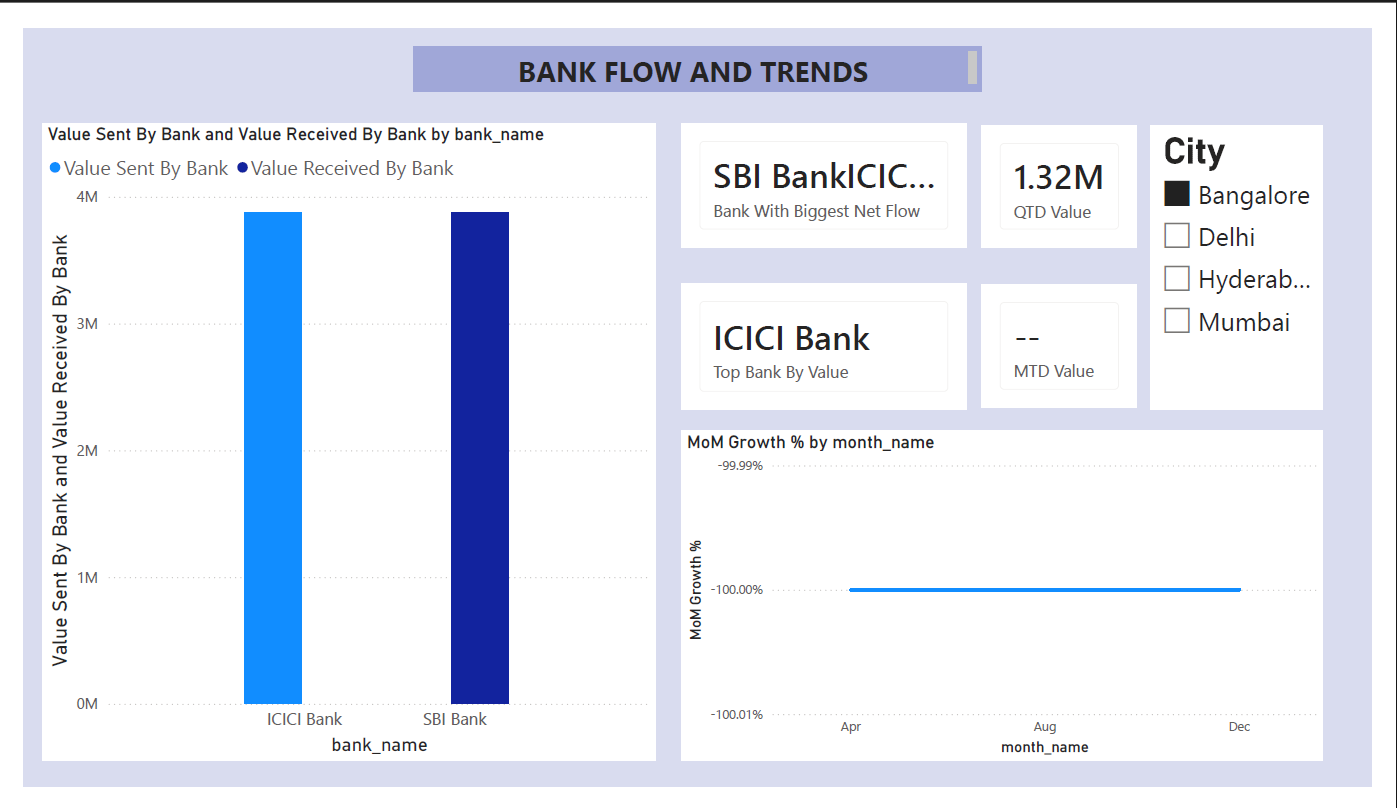

This screenshot's page, from the dashboard's own definition file:
{"tool":"powerbi","page":{"name":"page 4","canvas":[1280,720],"ordinal":3},"visuals":[{"type":"textbox","box":[370,16.7,540,43.3],"z":0},{"type":"clusteredColumnChart","fields":{"Category":["dim_bank.bank_name"],"Y":["fact_transactions.Value Sent By Bank","fact_transactions.Value Received By Bank"]},"box":[17.5,90,582.5,605],"z":1000},{"type":"lineChart","fields":{"Category":["dim_date.month_name"],"Y":["fact_transactions.MoM Growth %"]},"box":[625,381.7,608.3,313.3],"z":2000},{"type":"cardVisual","fields":{"Data":["fact_transactions.MTD Value"]},"box":[910,243.3,146.7,116.7],"z":3000},{"type":"cardVisual","fields":{"Data":["fact_transactions.Bank With Biggest Net Flow"]},"box":[625,90,270,118.3],"z":4000},{"type":"cardVisual","fields":{"Data":["fact_transactions.Top Bank By Value"]},"box":[625,241.7,270,120],"z":5000},{"type":"cardVisual","fields":{"Data":["fact_transactions.QTD Value"]},"box":[910,91.7,146.7,116.7],"z":6000},{"type":"slicer","fields":{"Values":["fact_transactions.City"]},"box":[1070,91.7,163.3,270],"z":8000}]}

Visuals, with their boxes in screenshot pixels (x1, y1, x2, y2), scaled from the page's 1280x720 canvas onto the 1397x808 screenshot:
textbox: select_region(404, 19, 993, 67)
clusteredColumnChart - dim_bank.bank_name x fact_transactions.Value Sent By Bank: select_region(19, 101, 655, 780)
lineChart - dim_date.month_name x fact_transactions.MoM Growth %: select_region(682, 428, 1346, 780)
cardVisual - fact_transactions.MTD Value: select_region(993, 273, 1153, 404)
cardVisual - fact_transactions.Bank With Biggest Net Flow: select_region(682, 101, 977, 234)
cardVisual - fact_transactions.Top Bank By Value: select_region(682, 271, 977, 406)
cardVisual - fact_transactions.QTD Value: select_region(993, 103, 1153, 234)
slicer - fact_transactions.City: select_region(1168, 103, 1346, 406)
